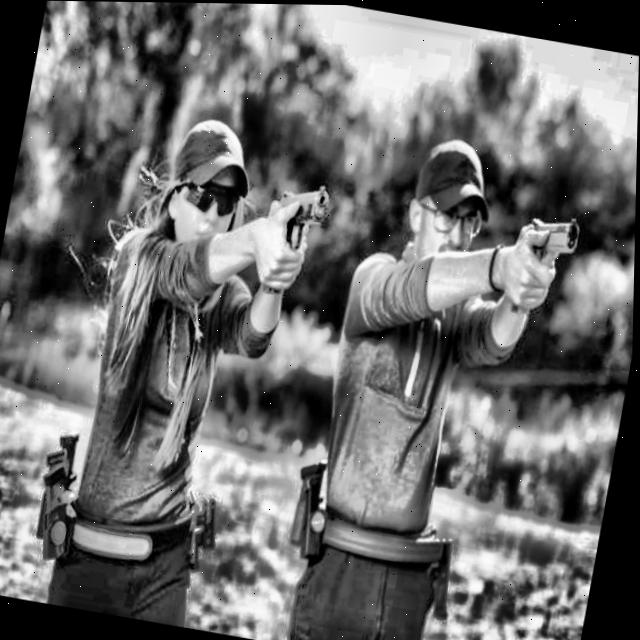pistol: (500, 206, 591, 329)
